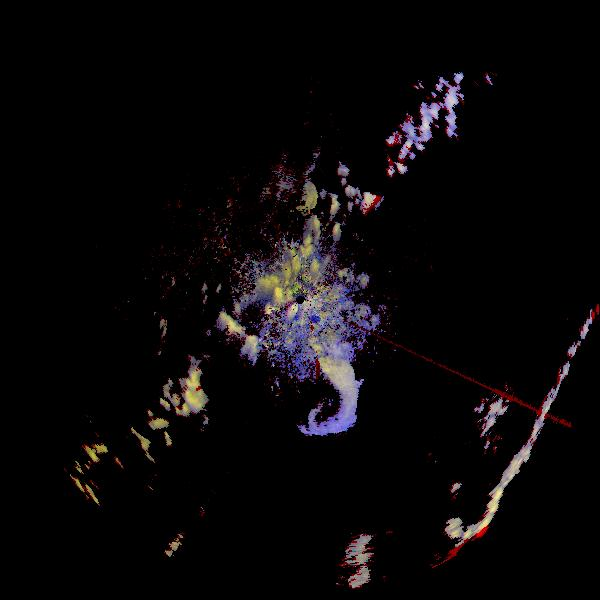roost: (252, 334, 372, 454), (233, 141, 332, 240)
